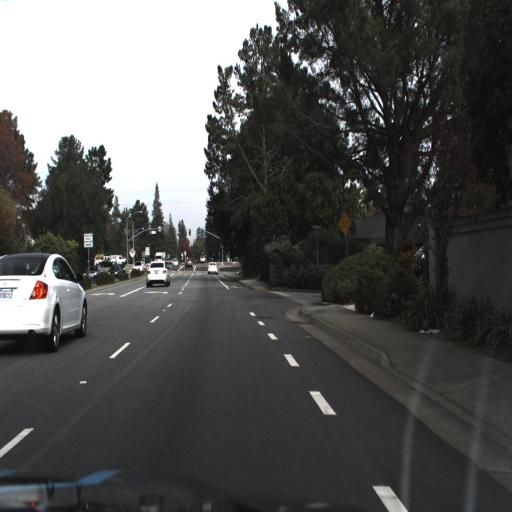car: (1, 246, 92, 352), (0, 251, 91, 352), (147, 258, 171, 288), (105, 259, 125, 282), (203, 258, 221, 283), (84, 260, 102, 282), (107, 264, 125, 281), (204, 257, 219, 276), (183, 258, 194, 273)
